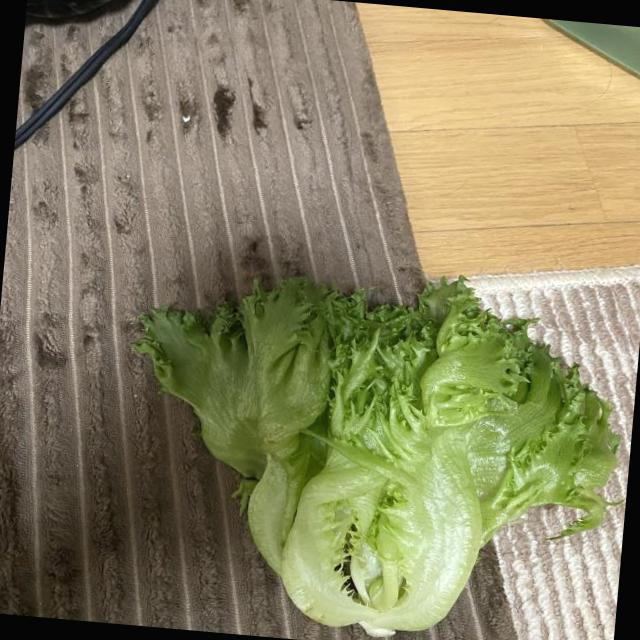Lettuce-Ready-to-Harvest: (137, 278, 618, 635)
